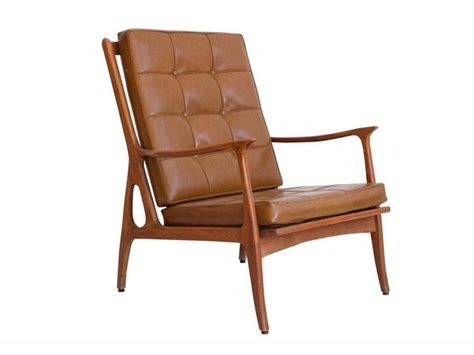cuero: (117, 28, 389, 228)
